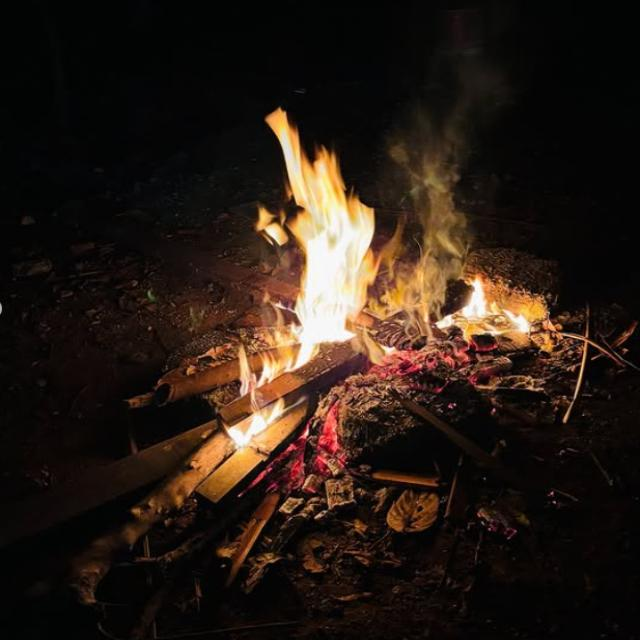fire: (255, 107, 382, 342), (223, 344, 323, 447), (434, 275, 534, 336)
